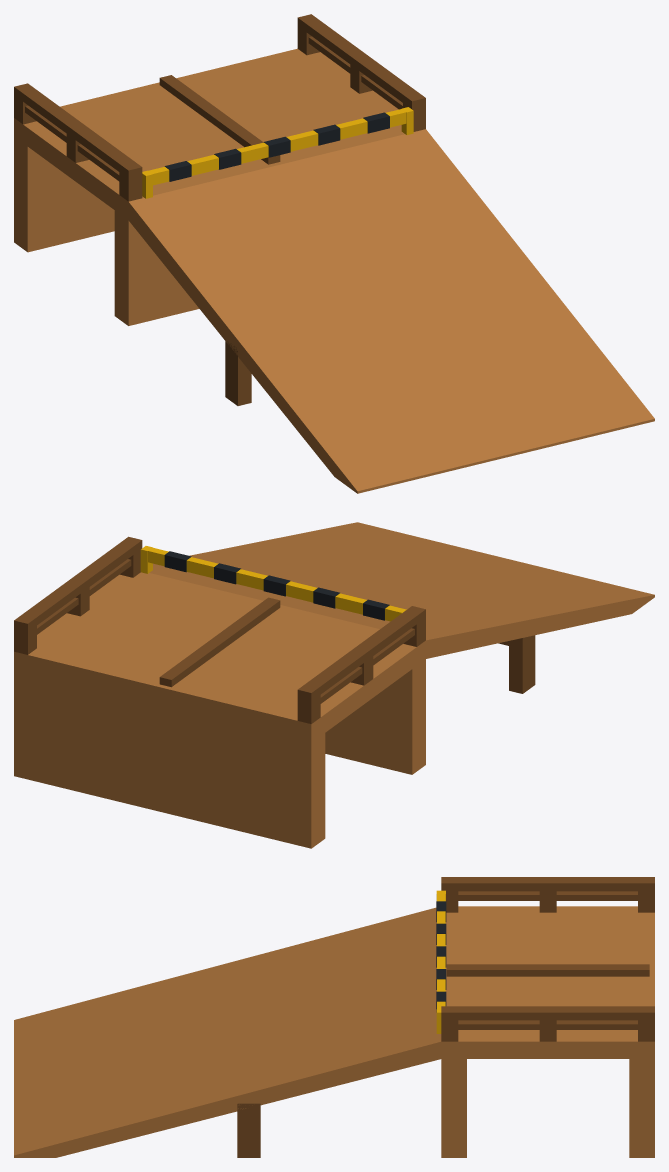
File: derby_start_ramp_3x6.glb
3 renders of one model, top to bottom at view 1: azimuth 30°, elevation 25°; view 2: azimuth 150°, elevation 25°; view 3: azimuth 270°, elevation 25°, orthographic. The views are drawn at different scales.
Parts seen in each view (by area): view 1: ramp_deck, guard_top, gate_drop; view 2: ramp_deck, guard_top, gate_drop; view 3: ramp_deck, guard_top, gate_drop.
Boxes of the visible parts, bbox=[...] form: ramp_deck: bbox=[14, 48, 654, 493]; guard_top: bbox=[14, 14, 425, 405]; gate_drop: bbox=[142, 107, 413, 198]; ramp_deck: bbox=[14, 522, 654, 848]; guard_top: bbox=[14, 536, 535, 723]; gate_drop: bbox=[140, 546, 406, 621]; ramp_deck: bbox=[14, 906, 654, 1157]; guard_top: bbox=[237, 877, 654, 1157]; gate_drop: bbox=[436, 890, 446, 1033].
Bounding box in the file's own units: 3 × 1.5 × 6.
